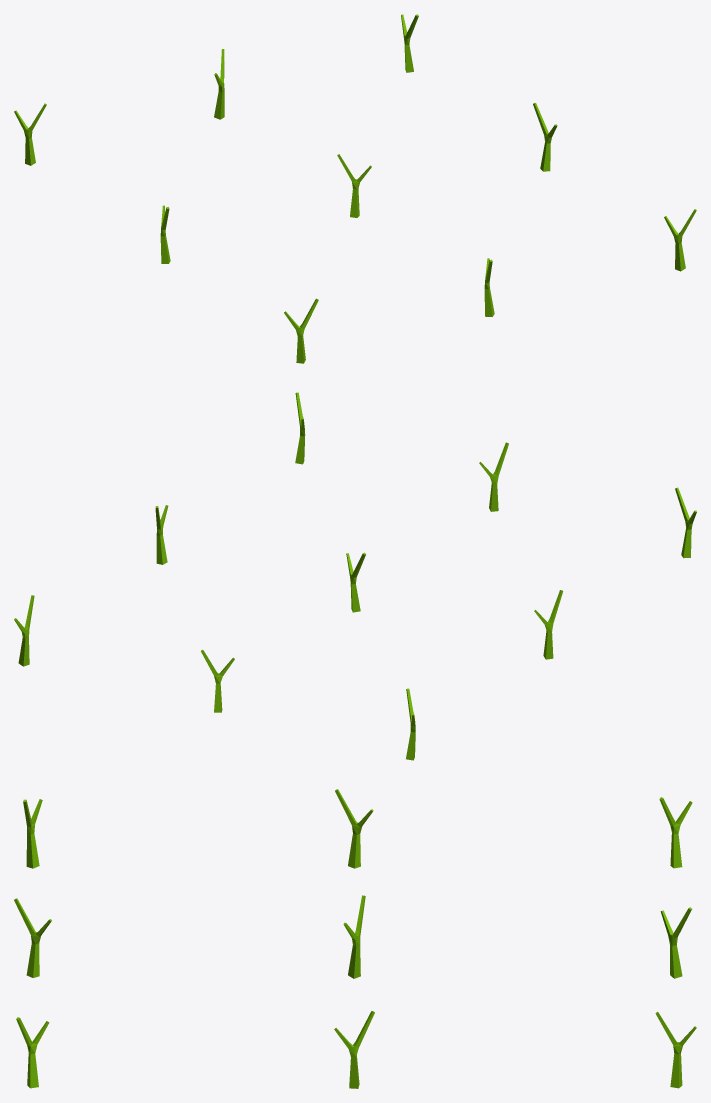
The model's file is corn_seedling.glb.
The picture shows the model from 3 angles, top to bottom: view 1: azimuth 30°, elevation 25°; view 2: azimuth 150°, elevation 25°; view 3: azimuth 270°, elevation 25°; orthographic projection. The views are drawn at different scales.
Visible parts, largest first — view 1: CornSeedling; view 2: CornSeedling; view 3: CornSeedling.
Part boxes in pixels (<box>): CornSeedling: <box>14,14,696,363</box>; CornSeedling: <box>14,392,696,760</box>; CornSeedling: <box>14,789,696,1088</box>.
Size of the model in its own units: 0.6027 by 0.0889 by 0.7434.
